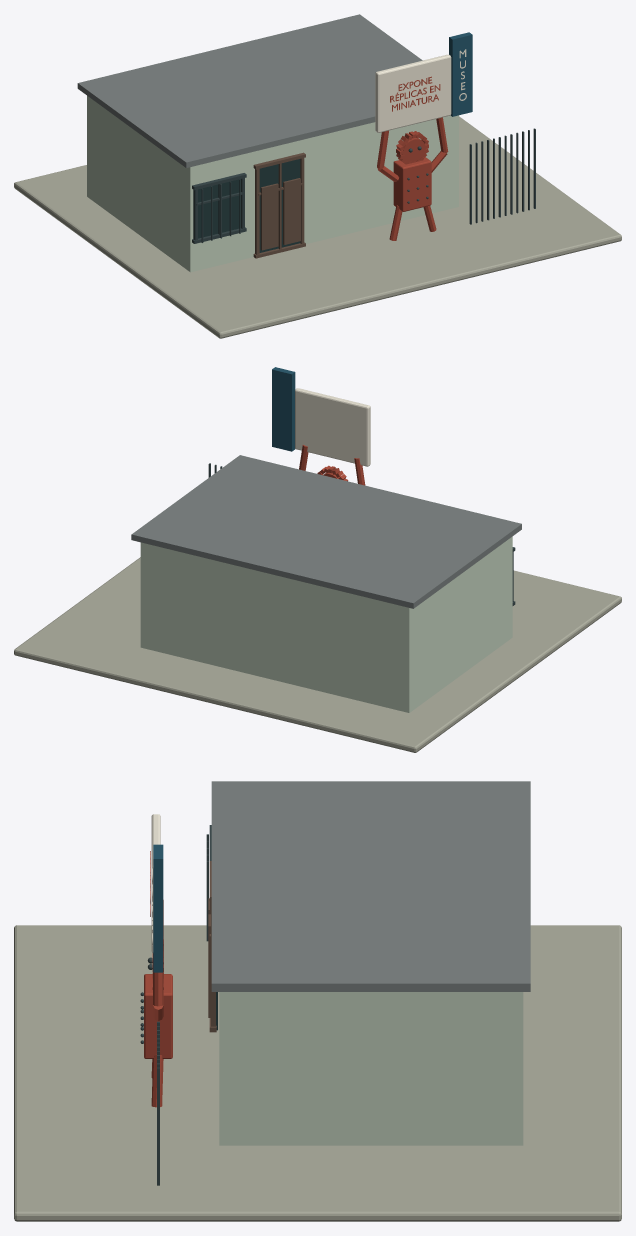
File: gms-60.glb
3 views of the same model, one above another, from view 1: azimuth 30°, elevation 25°; view 2: azimuth 150°, elevation 25°; view 3: azimuth 270°, elevation 25° (orthographic). The views are drawn at different scales.
Parts seen in each view (by area): view 1: Context plinth, Straight corrugated roof edge, Low pale-green workshop entrance, White sign carried by robot, Workshop barred window jamb, Robot riveted torso, Workshop doorway jamb, Workshop doorway recess, Vertical museum sign; view 2: Low pale-green workshop entrance, Straight corrugated roof edge, Context plinth, White sign carried by robot, Vertical museum sign, Robot riveted torso; view 3: Context plinth, Straight corrugated roof edge, Low pale-green workshop entrance, Robot riveted torso, Vertical museum sign, Workshop barred window jamb, Workshop doorway jamb, White sign carried by robot.
Part boxes in pixels (left/top/right/bottom): Context plinth: left=14, top=116, right=621, bottom=338; Straight corrugated roof edge: left=77, top=14, right=422, bottom=167; Low pale-green workshop entrance: left=87, top=96, right=458, bottom=272; White sign carried by robot: left=375, top=49, right=466, bottom=132; Workshop barred window jamb: left=192, top=128, right=535, bottom=243; Robot riveted torso: left=377, top=76, right=448, bottom=240; Workshop doorway jamb: left=253, top=152, right=305, bottom=258; Workshop doorway recess: left=198, top=159, right=300, bottom=252; Vertical museum sign: left=449, top=32, right=472, bottom=116; Low pale-green workshop entrance: left=140, top=536, right=512, bottom=712; Straight corrugated roof edge: left=131, top=455, right=521, bottom=608; Context plinth: left=14, top=557, right=621, bottom=752; White sign carried by robot: left=295, top=388, right=370, bottom=466; Vertical museum sign: left=272, top=367, right=295, bottom=451; Robot riveted torso: left=299, top=445, right=365, bottom=485; Context plinth: left=14, top=925, right=621, bottom=1221; Straight corrugated roof edge: left=211, top=781, right=530, bottom=991; Low pale-green workshop entrance: left=219, top=992, right=523, bottom=1145; Robot riveted torso: left=144, top=851, right=172, bottom=1107; Vertical museum sign: left=153, top=844, right=163, bottom=972; Workshop barred window jamb: left=140, top=825, right=211, bottom=1185; Workshop doorway jamb: left=208, top=861, right=216, bottom=1032; White sign carried by robot: left=151, top=814, right=160, bottom=953.
Size of the model in its own units: 9 by 4.21 by 8.
